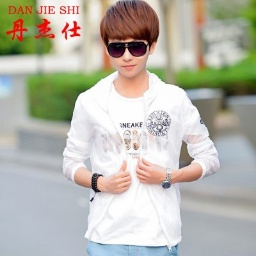face: (100, 1, 160, 78)
